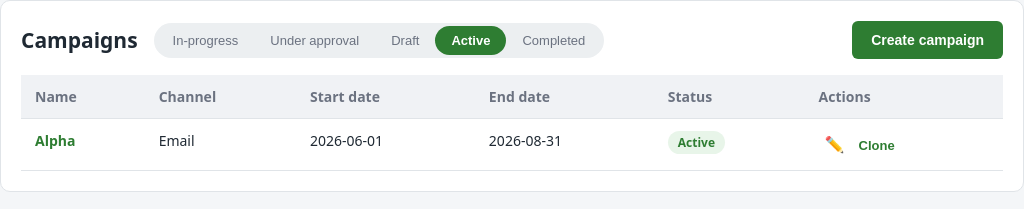
Test: default Active tab shows only active campaigns; switching tab filters
Expected: the text "Alpha" is shown, 21,118 -> 145,170
Expected: the text "Beta" is not shown
Note: Switch to Draft tab.
Step 1. Click the button "Draft" → (405, 40), box 375,26 -> 435,54
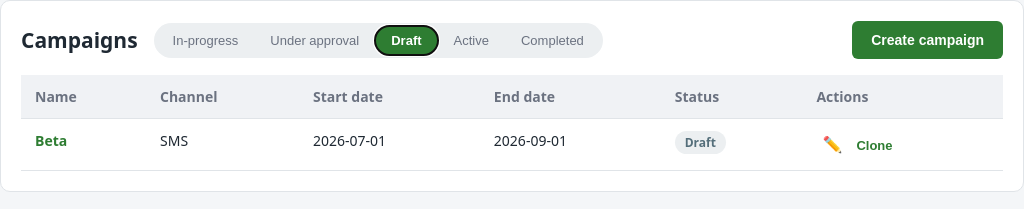
Now the text "Beta" is shown, box 21,118 -> 146,170
